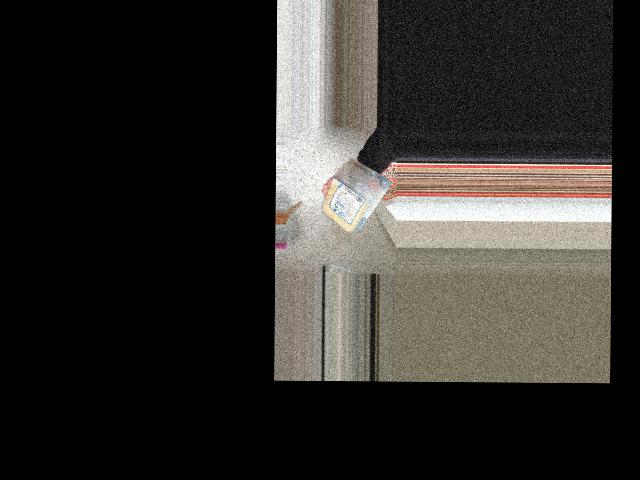cheese: (322, 165, 381, 231)
